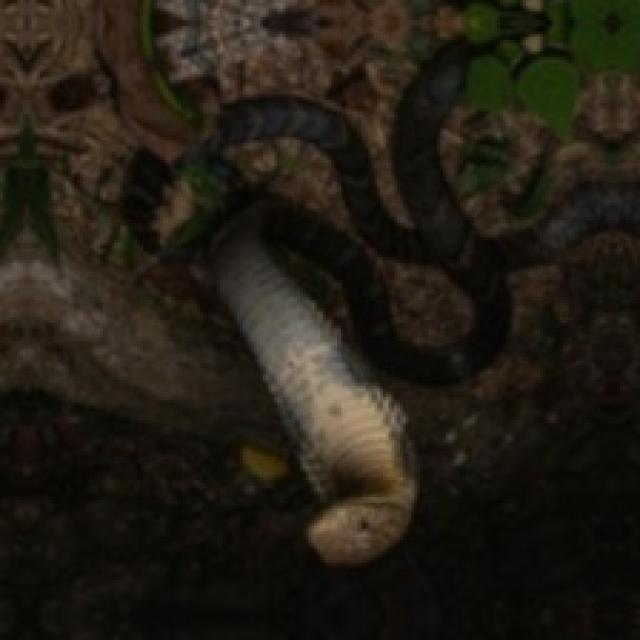king cobra: (97, 0, 506, 563)
